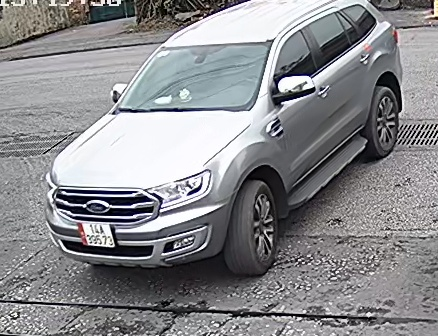vehicle plate: (75, 220, 118, 249)
